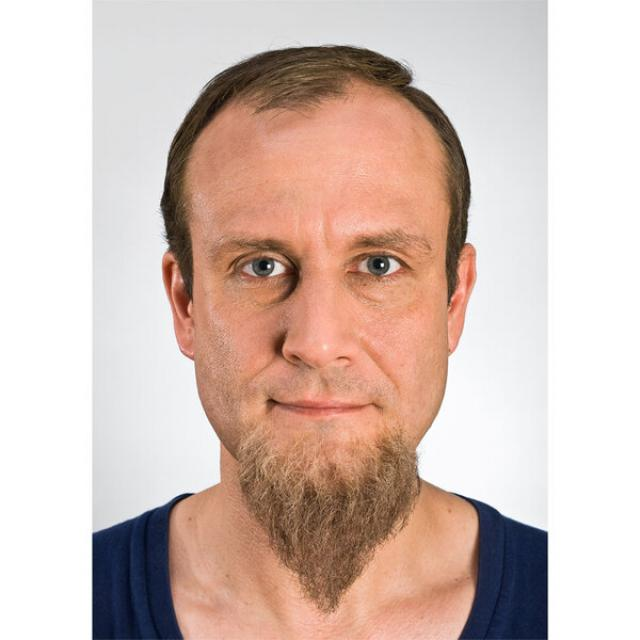beard: (238, 431, 422, 611)
hair: (161, 45, 471, 286)
